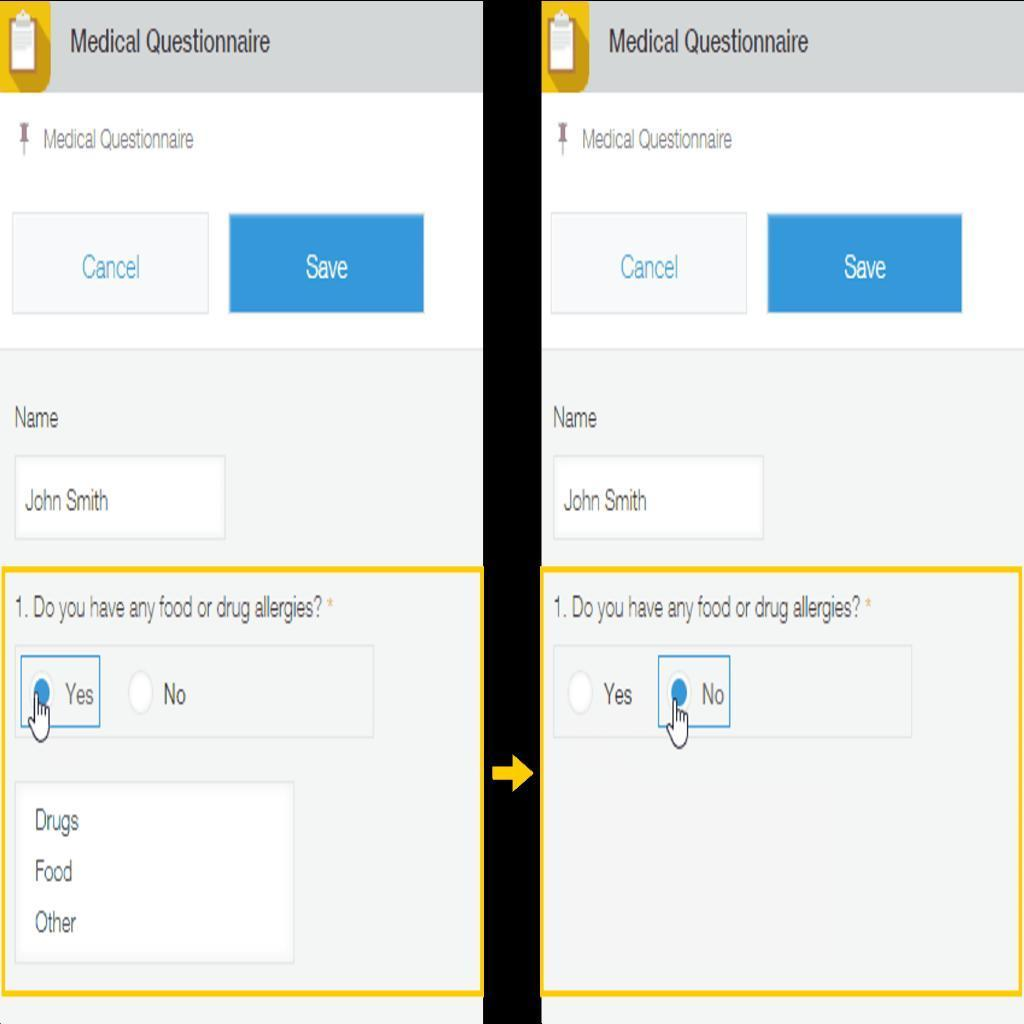button: (13, 215, 208, 314), (554, 214, 748, 313), (770, 216, 962, 315), (231, 216, 424, 312)
input: (557, 455, 764, 543), (15, 454, 227, 539)
label: (605, 679, 637, 709), (163, 681, 190, 708)
radio: (128, 670, 155, 717), (568, 671, 593, 717)
